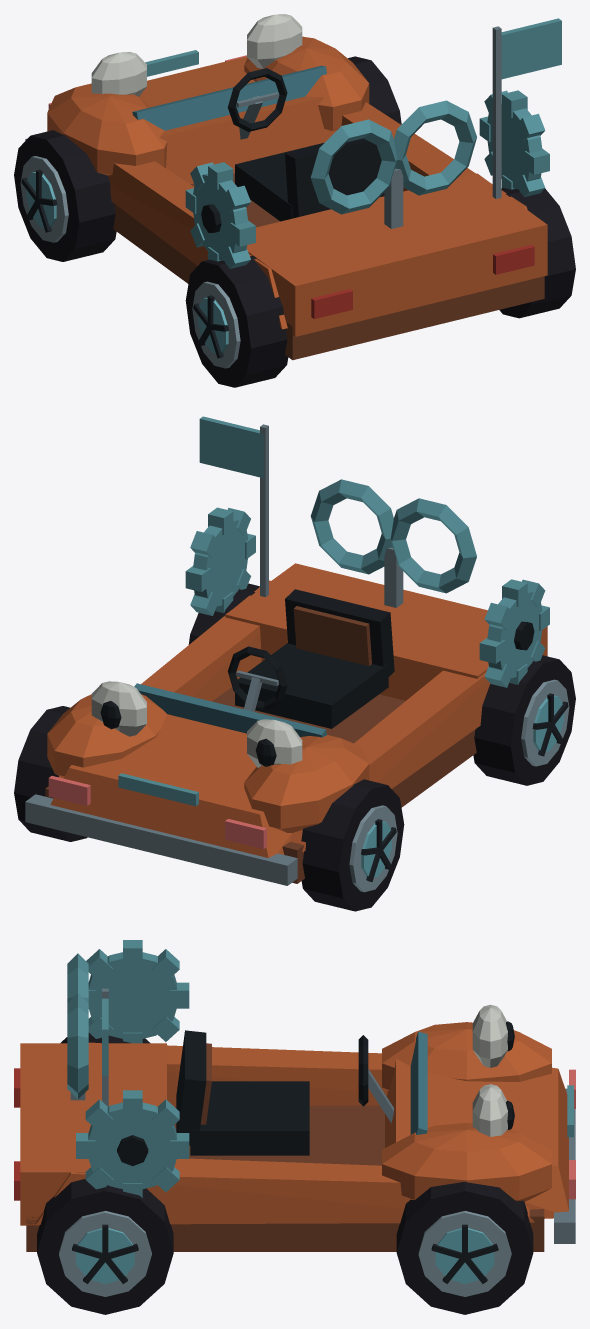
The model's file is kart.glb.
3 views of the same model, one above another, from view 1: azimuth 30°, elevation 25°; view 2: azimuth 150°, elevation 25°; view 3: azimuth 270°, elevation 25° (orthographic). The views are drawn at different scales.
Parts seen in each view (by area): view 1: identity-toy-car-toy-rounded-body-and-wind-up-key, wheel-rear-left, wheel-front-left, identity-toy-car-motif-gears, identity-toy-car-driver-cockpit, identity-toy-car-motif-flag, identity-toy-car-motif-eyes, wheel-rear-right, wheel-front-right; view 2: identity-toy-car-toy-rounded-body-and-wind-up-key, identity-toy-car-driver-cockpit, identity-toy-car-motif-gears, wheel-front-left, wheel-rear-left, identity-toy-car-motif-eyes, identity-toy-car-motif-flag, wheel-front-right, wheel-rear-right; view 3: identity-toy-car-toy-rounded-body-and-wind-up-key, identity-toy-car-motif-gears, wheel-front-right, wheel-rear-right, identity-toy-car-driver-cockpit, identity-toy-car-motif-eyes, identity-toy-car-motif-flag.
Boxes of the visible parts, x1,y1,x2,y2 form: identity-toy-car-toy-rounded-body-and-wind-up-key: (25, 36, 547, 360); wheel-rear-left: (185, 256, 288, 387); wheel-front-left: (14, 130, 116, 261); identity-toy-car-motif-gears: (185, 90, 549, 268); identity-toy-car-driver-cockpit: (227, 68, 384, 221); identity-toy-car-motif-flag: (492, 18, 561, 198); identity-toy-car-motif-eyes: (91, 14, 302, 96); wheel-rear-right: (499, 188, 575, 318); wheel-front-right: (348, 56, 401, 124); identity-toy-car-toy-rounded-body-and-wind-up-key: (25, 479, 547, 885); identity-toy-car-driver-cockpit: (228, 589, 394, 728); identity-toy-car-motif-gears: (185, 507, 549, 687); wheel-front-left: (301, 779, 404, 911); wheel-rear-left: (473, 655, 575, 785); identity-toy-car-motif-eyes: (91, 681, 302, 767); identity-toy-car-motif-flag: (199, 416, 268, 596); wheel-front-right: (14, 706, 87, 841); wheel-rear-right: (188, 583, 259, 644); identity-toy-car-toy-rounded-body-and-wind-up-key: (14, 953, 575, 1251); identity-toy-car-motif-gears: (76, 940, 189, 1197); wheel-front-right: (396, 1181, 533, 1314); wheel-rear-right: (37, 1179, 173, 1314); identity-toy-car-driver-cockpit: (176, 1030, 393, 1155); identity-toy-car-motif-eyes: (472, 1004, 514, 1136); identity-toy-car-motif-flag: (102, 988, 108, 1106).
Bounding box in the file's own units: 2.17 × 1.7 × 2.88.
